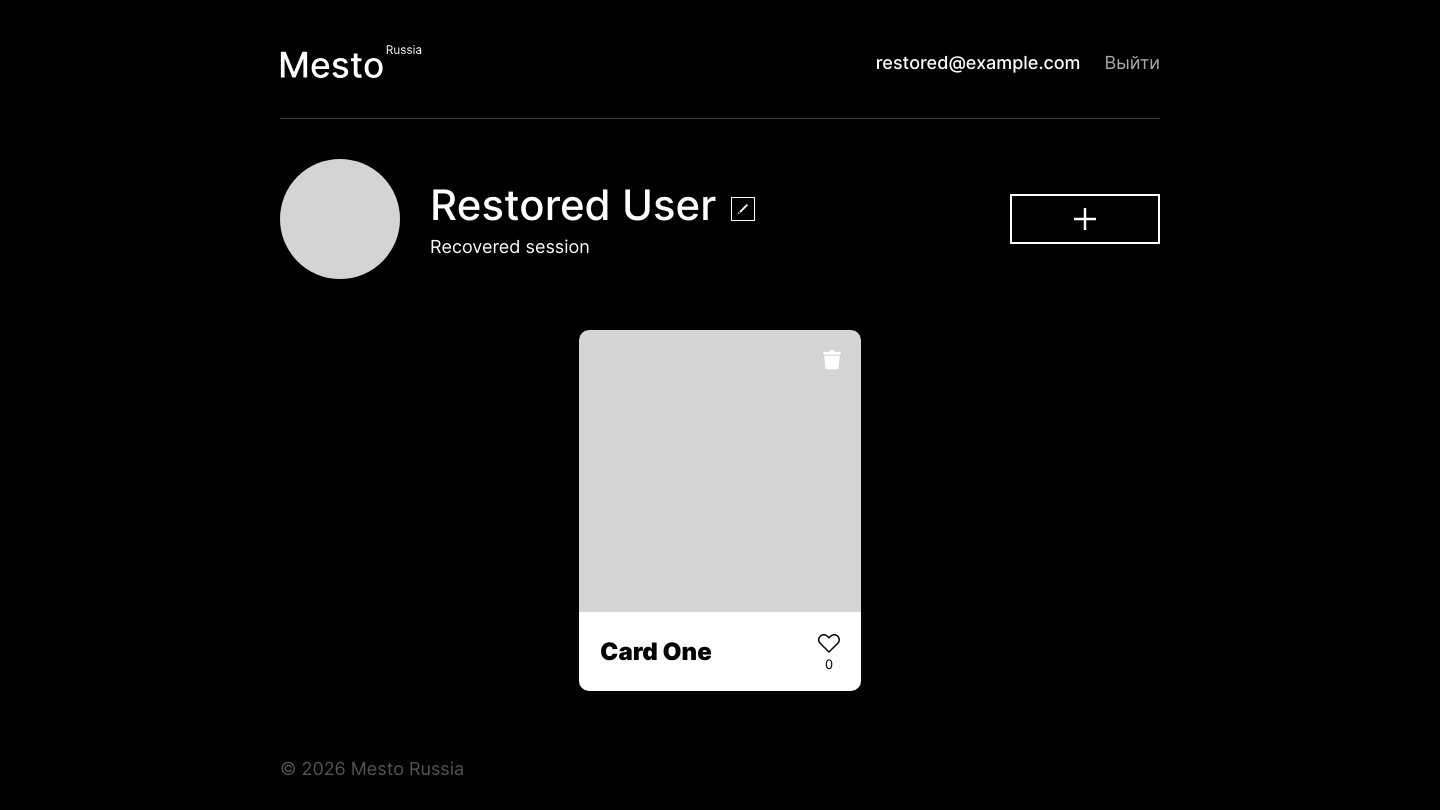
App frontend baseline › restores session from localStorage and renders cards/profile data
Expected: the heading "Restored User" is shown, [430,181,716,229]
Expected: the heading "Card One" is shown, [600,637,712,666]
Click the button named "редактировать профиль".
click(743, 209)  # box [731,197,755,221]
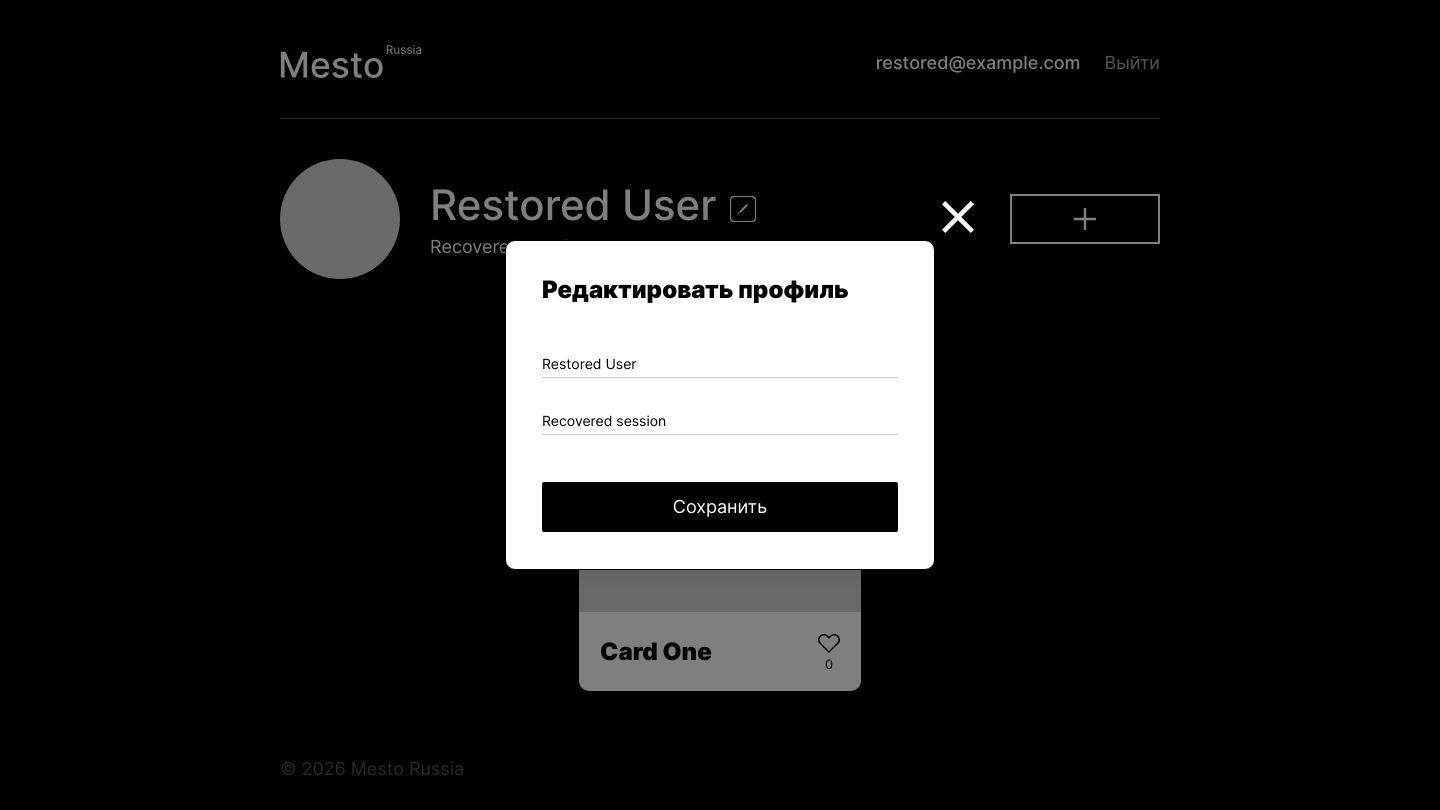
Expected: the heading "Редактировать профиль" is shown, [542,275,898,304]
